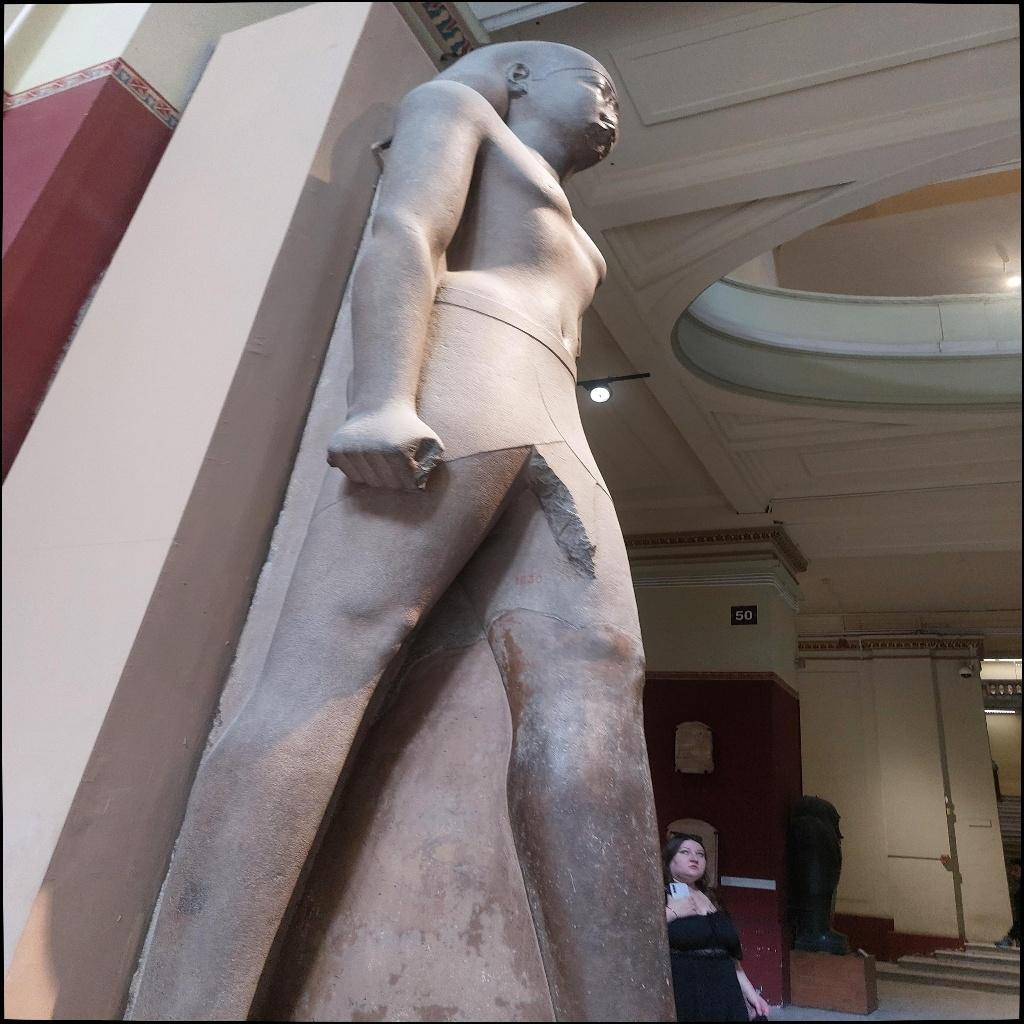Colossal Statue of Hormoheb: (118, 36, 684, 1018)
